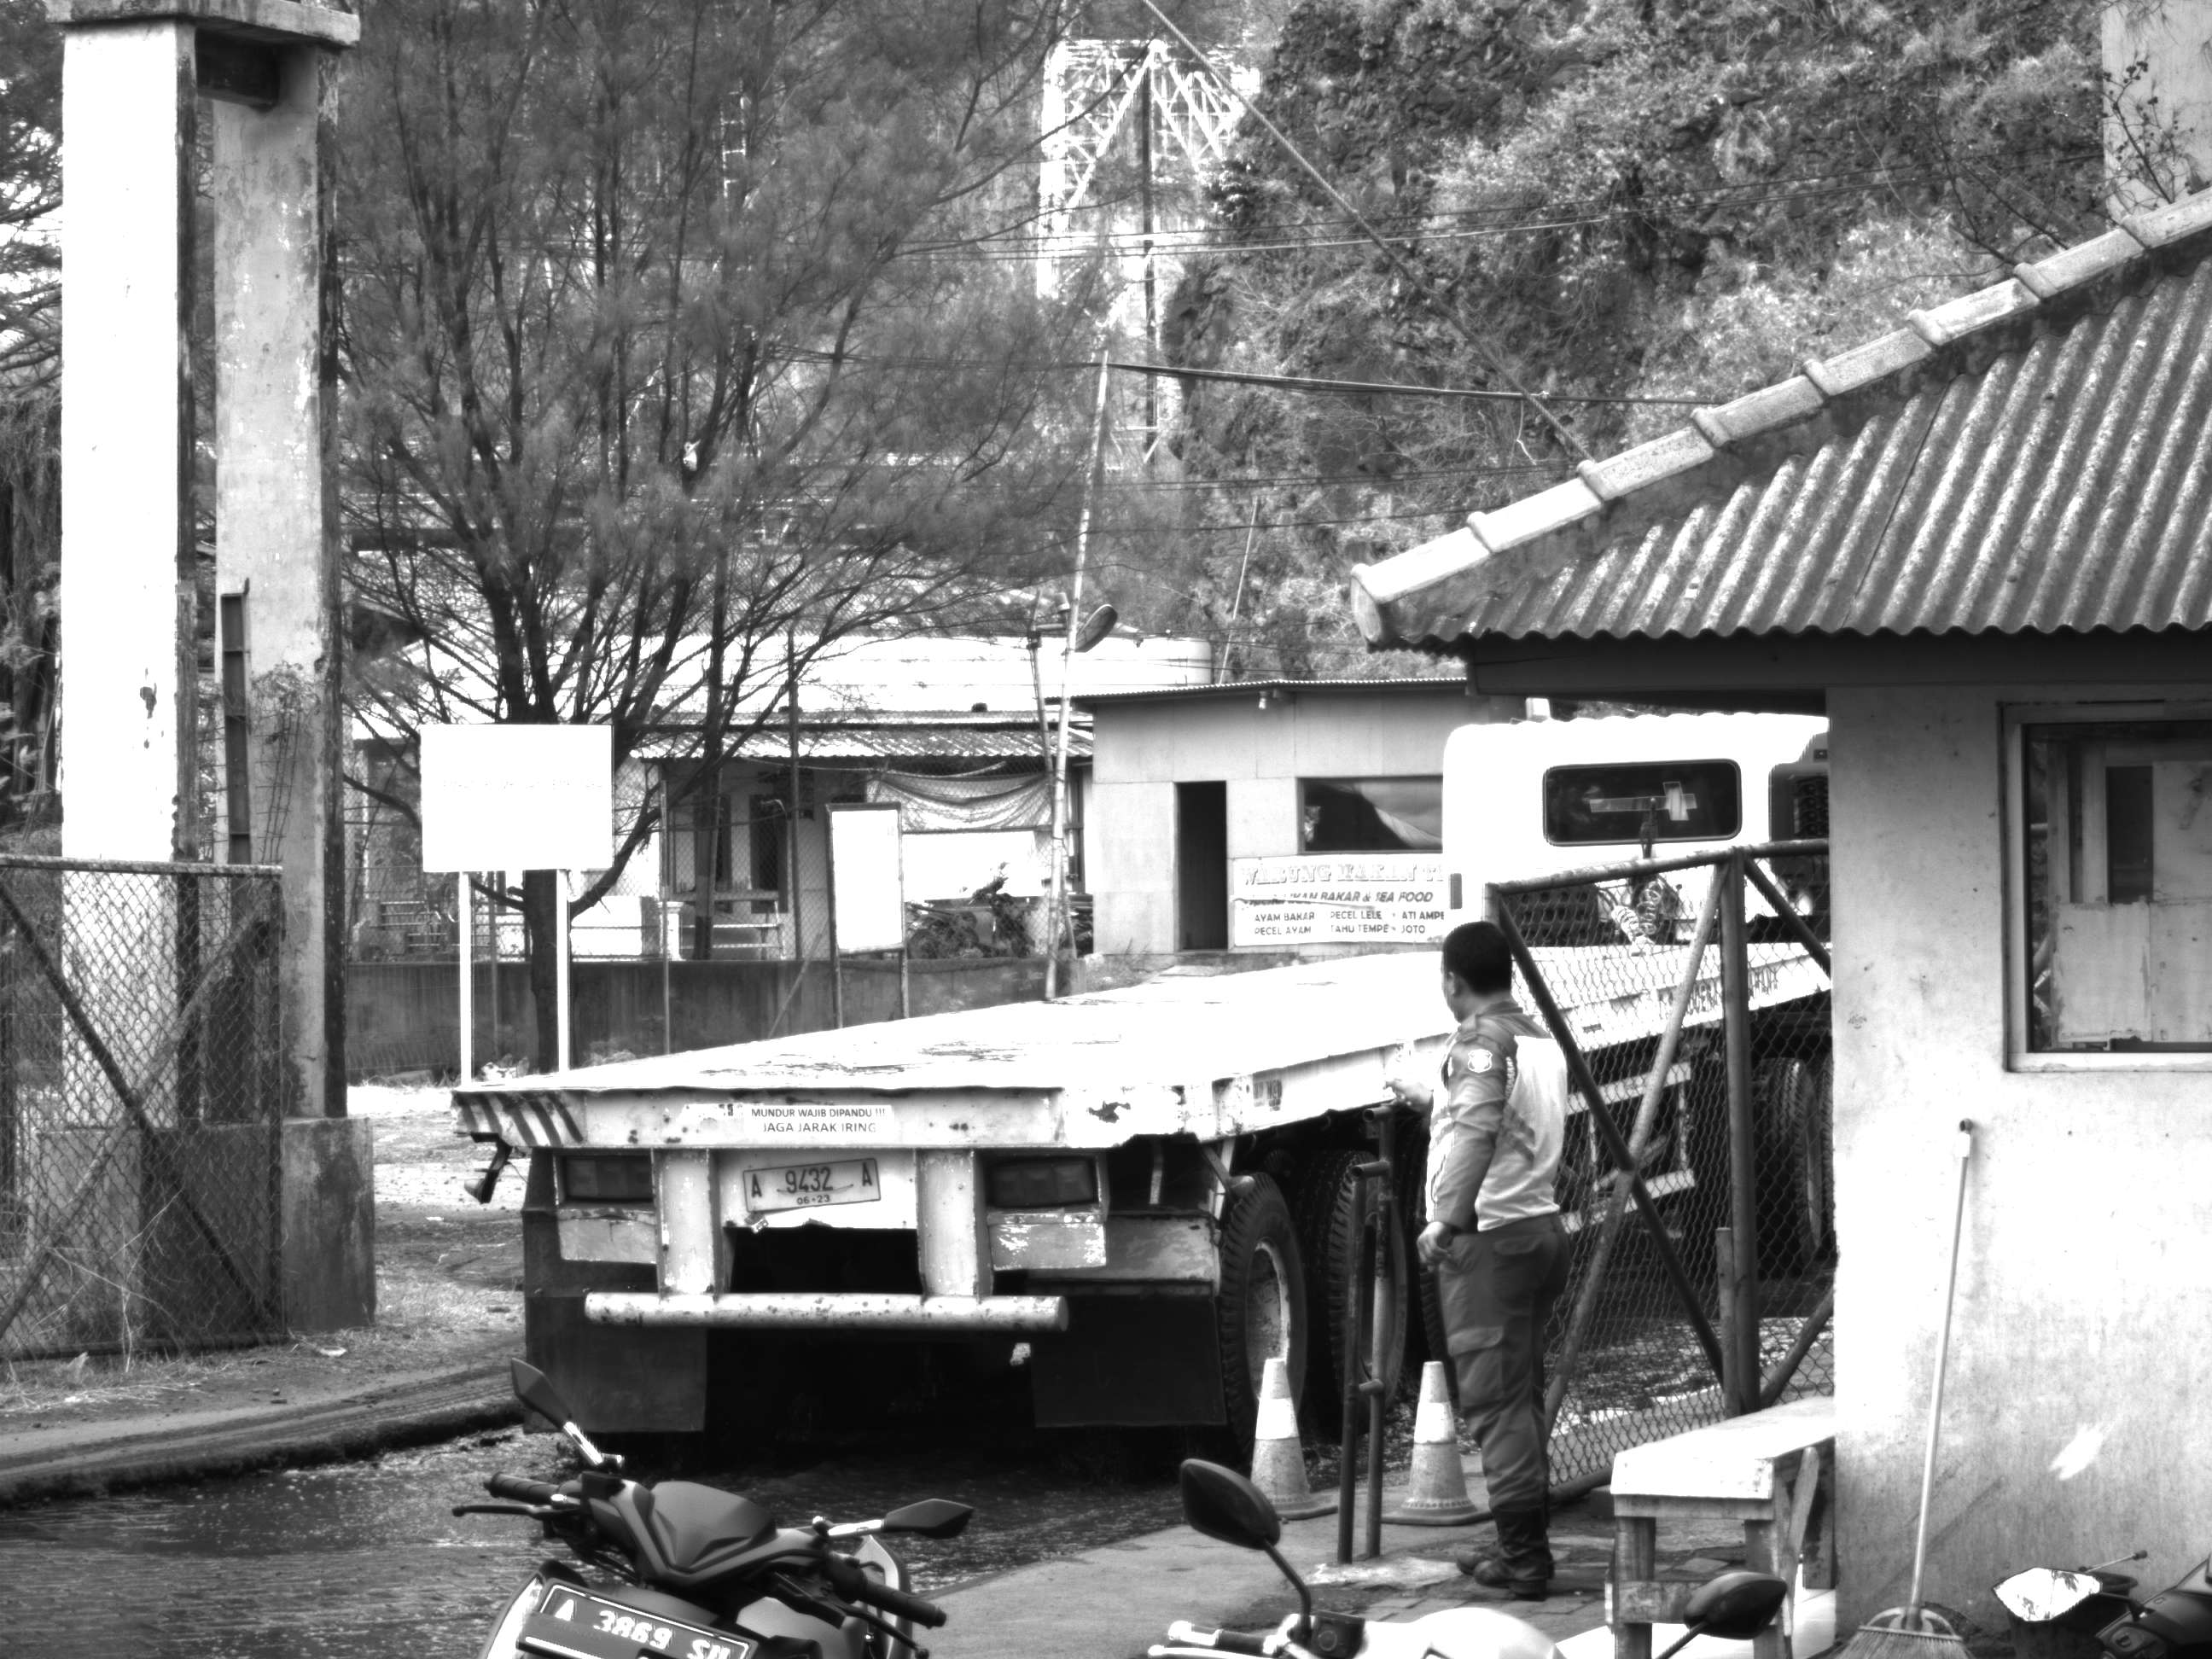day_truck_rear: (434, 1022, 1344, 1485)
plate: (533, 1569, 762, 1659), (735, 1154, 891, 1209)
